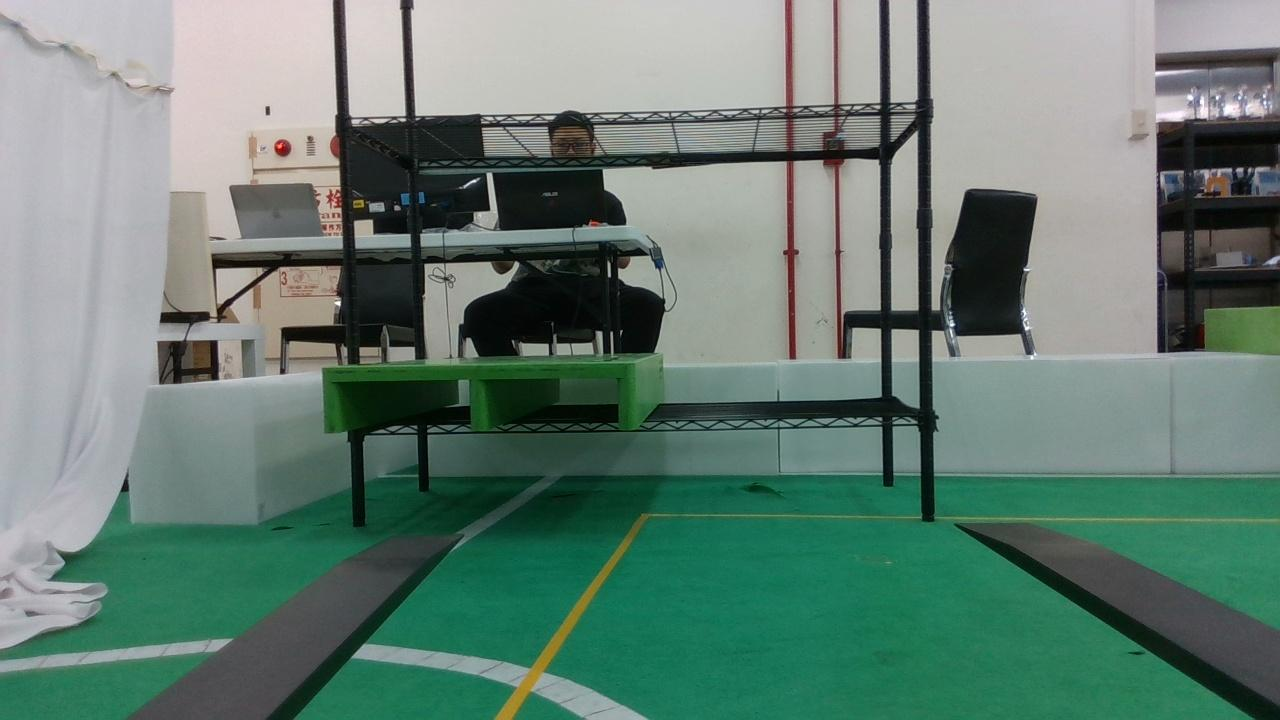Pallet: (320, 360, 639, 432)
